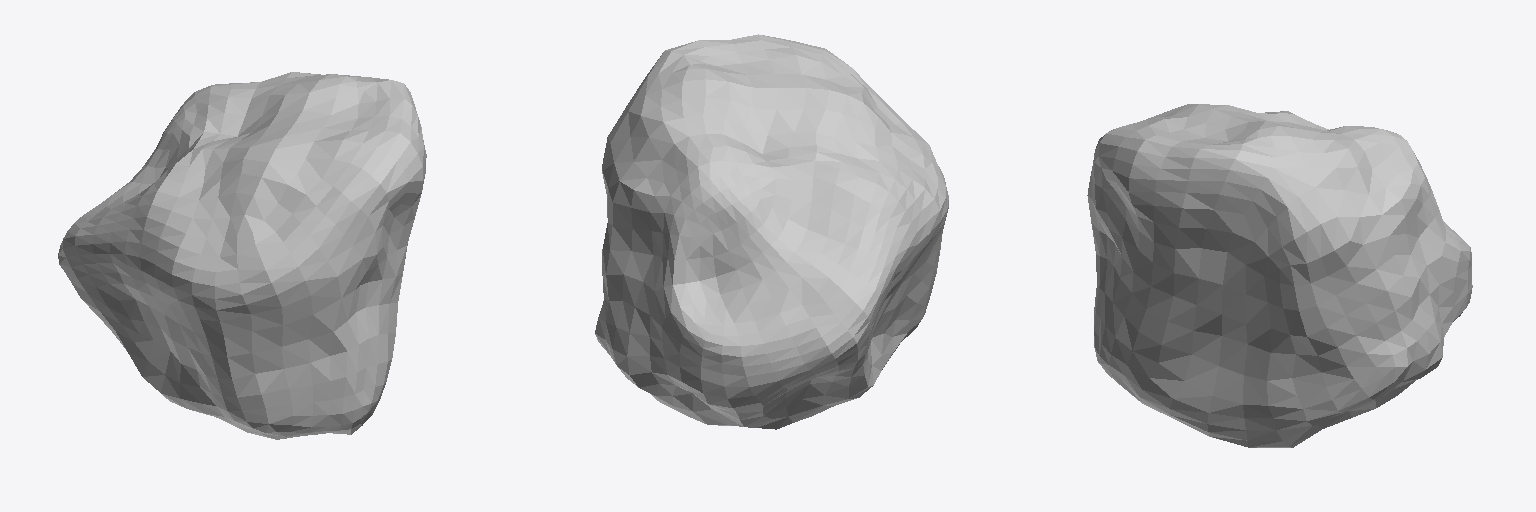
Rendered from asteroide5.obj.
3 views of the same model, side by side, from view 1: azimuth 30°, elevation 25°; view 2: azimuth 150°, elevation 25°; view 3: azimuth 270°, elevation 25° (orthographic).
Visible parts, largest first — view 1: Asteroid_no_5; view 2: Asteroid_no_5; view 3: Asteroid_no_5.
Part boxes in pixels (bbox=[...]): Asteroid_no_5: bbox=[58, 72, 426, 439]; Asteroid_no_5: bbox=[595, 34, 948, 429]; Asteroid_no_5: bbox=[1087, 104, 1472, 447].
Bounding box in the file's own units: 5.63 × 5.95 × 6.4.